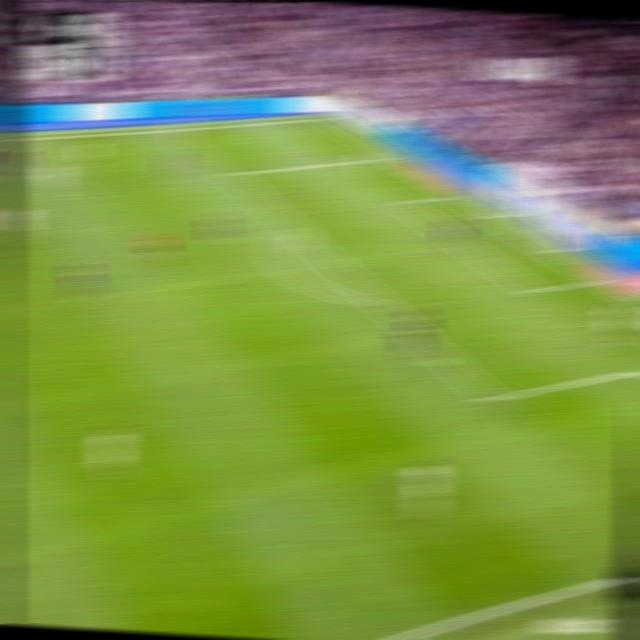bigarea_bottom_inner: (480, 385, 506, 414)
bigarea_top_inner: (220, 167, 241, 182)
bigarea_top_outter: (379, 148, 402, 162)
bottom_arc_area_intersection: (367, 292, 392, 312)
corner: (316, 113, 338, 123)
smallarea_bottom_inner: (523, 281, 547, 301)
smallarea_top_inner: (391, 196, 414, 209)
top_arc_area_intersection: (280, 218, 300, 231)
